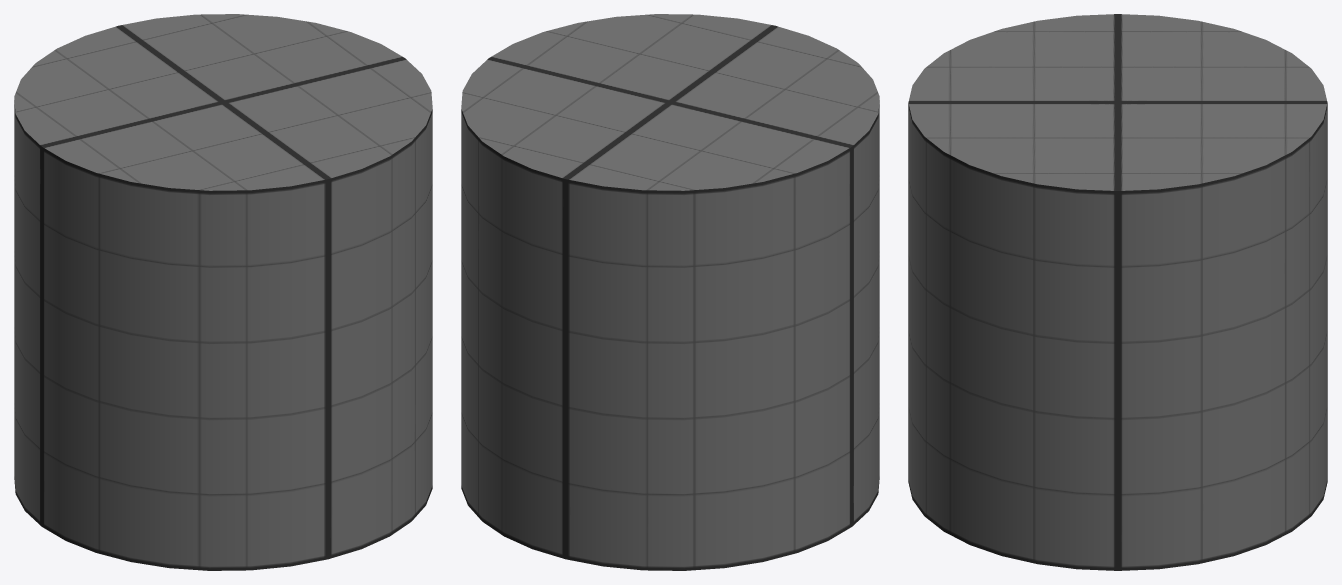
Rendered from cylinder_unreal.gltf.
The picture shows the model from 3 angles, left to right: view 1: azimuth 30°, elevation 25°; view 2: azimuth 150°, elevation 25°; view 3: azimuth 270°, elevation 25°; orthographic projection.
Visible parts, largest first — view 1: SM_Cylinder; view 2: SM_Cylinder; view 3: SM_Cylinder.
Boxes of the visible parts, x1,y1,x2,y2 form: SM_Cylinder: [14, 14, 432, 570]; SM_Cylinder: [461, 14, 879, 570]; SM_Cylinder: [908, 14, 1327, 570].
Bounding box in the file's own units: 1 × 1 × 1.
1 material, 1 textured.
